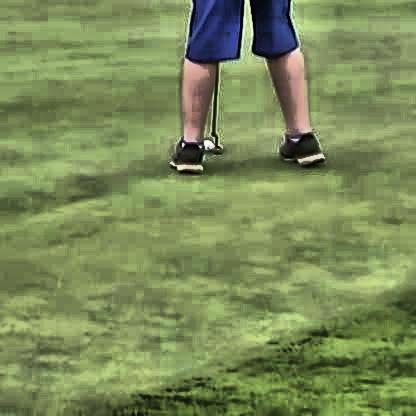golfball: (200, 137, 213, 150)
